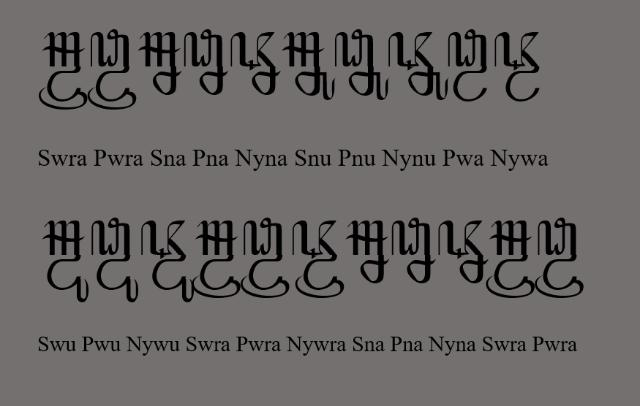Nyn: (230, 31, 282, 95), (438, 220, 488, 284)
Nynu: (388, 31, 449, 101)
Nyw: (494, 31, 540, 102)
Nywr: (292, 220, 344, 298)
Nywu: (142, 220, 194, 304)
Pn: (184, 29, 228, 96), (393, 218, 437, 284)
Pnu: (335, 29, 389, 101)
Pw: (448, 29, 488, 102)
Pwr: (535, 217, 585, 299), (241, 217, 289, 299), (88, 30, 136, 111)
Pwu: (90, 218, 140, 304)
Sn: (136, 31, 182, 96), (344, 220, 390, 284)
Snu: (282, 31, 336, 101)
Swr: (486, 220, 536, 300), (38, 32, 88, 111), (192, 220, 240, 300)
Swu: (40, 220, 90, 304)
